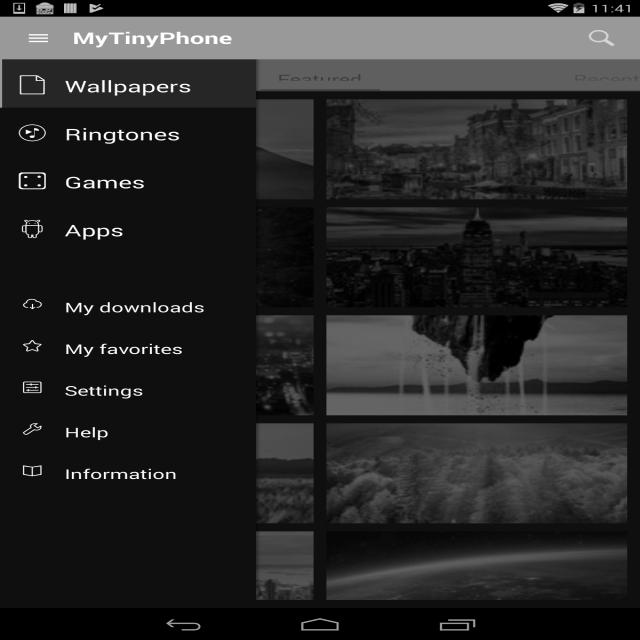ImageButton: (9, 17, 68, 59)
ImageView: (12, 100, 314, 200), (12, 208, 314, 308), (12, 316, 314, 416), (12, 424, 314, 524), (12, 532, 314, 632), (327, 100, 628, 200), (327, 208, 628, 308), (327, 316, 628, 416), (327, 424, 628, 524), (327, 532, 628, 632), (572, 22, 631, 54), (17, 76, 48, 94), (17, 124, 48, 142), (17, 172, 48, 190), (17, 220, 48, 238), (17, 339, 48, 352), (17, 298, 48, 310), (17, 382, 48, 394), (17, 423, 48, 435), (17, 464, 48, 476)
TextView: (64, 75, 230, 97), (64, 123, 230, 145), (64, 171, 230, 193), (64, 219, 230, 241), (73, 27, 232, 49), (64, 298, 234, 316), (64, 340, 234, 358), (64, 423, 234, 441), (64, 464, 234, 482), (64, 382, 234, 399), (0, 70, 103, 80), (277, 70, 363, 81), (573, 70, 640, 81)
